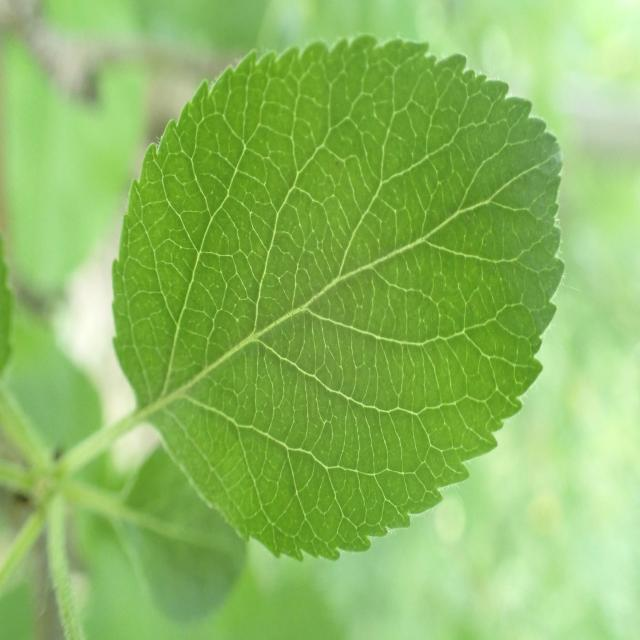healthy: (112, 33, 566, 562)
